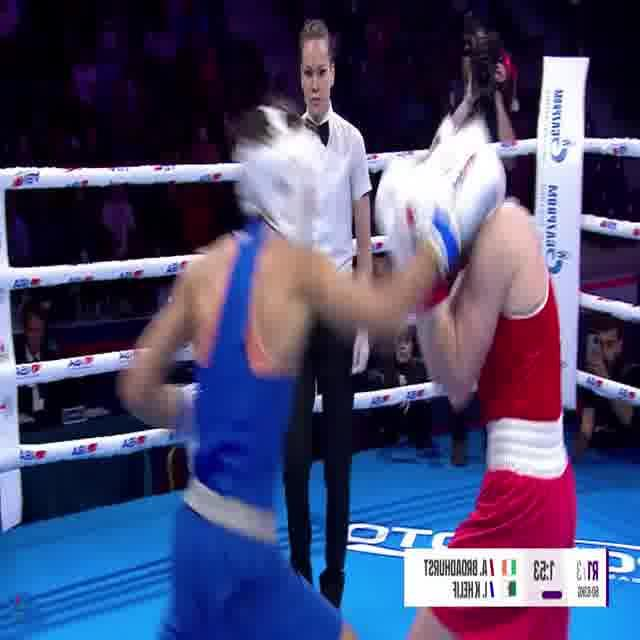blue-player: (116, 96, 511, 640)
red-player: (373, 107, 584, 640)
referee: (264, 12, 370, 630)
